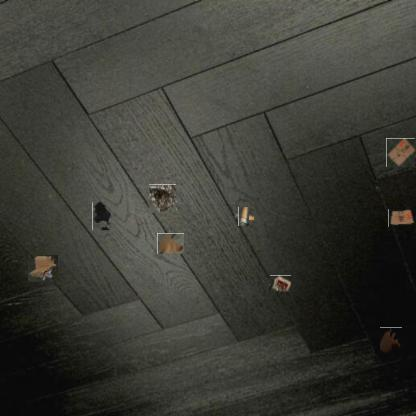dirty: (386, 138, 415, 167), (28, 256, 58, 284), (148, 184, 176, 213), (157, 233, 184, 254), (388, 209, 415, 228), (269, 275, 291, 292), (236, 209, 252, 224)
liquid: (380, 327, 402, 354), (92, 202, 111, 230)
